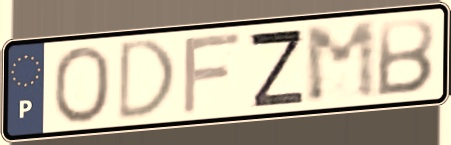B: (372, 15, 439, 99)
D: (114, 35, 179, 125)
F: (179, 29, 245, 119)
M: (301, 17, 382, 107)
O: (50, 43, 114, 126)
Z: (245, 27, 307, 110)
